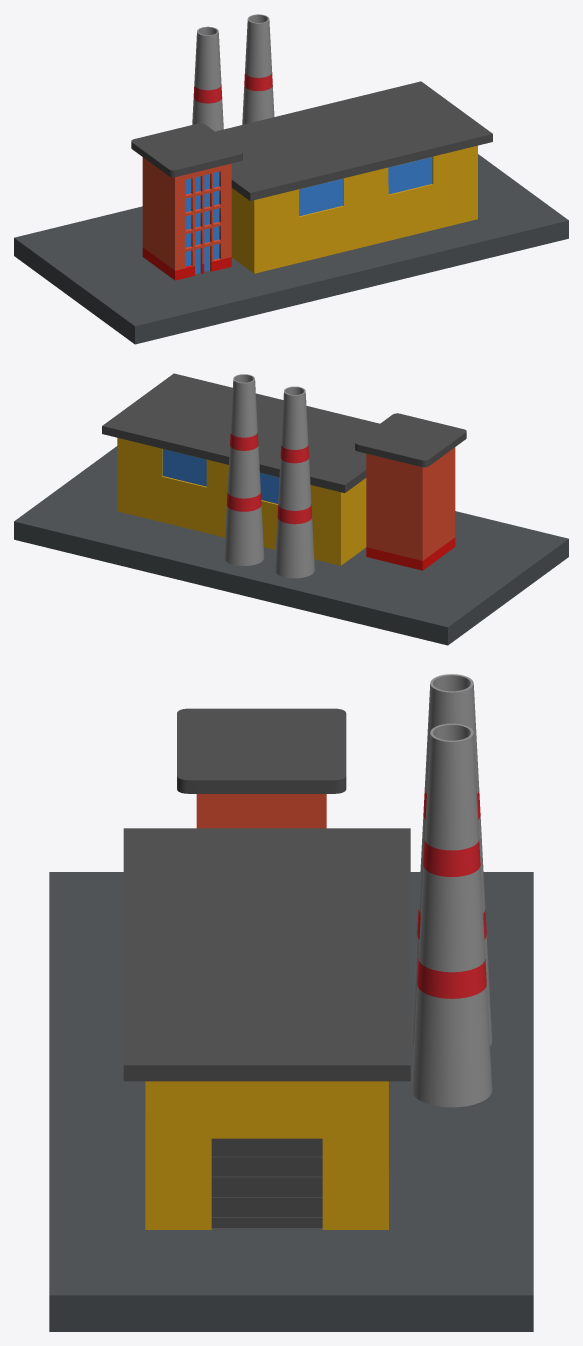
Rendered from Factory4 (2).fbx.
3 views of the same model, one above another, from view 1: azimuth 30°, elevation 25°; view 2: azimuth 150°, elevation 25°; view 3: azimuth 270°, elevation 25° (orthographic). The views are drawn at different scales.
Visible parts, largest first — view 1: Factory.004, Factory.005, Office.003, Pipe.002, Pipe.001; view 2: Factory.005, Factory.004, Office.003, Pipe.001, Pipe.002; view 3: Factory.005, Factory.004, Pipe.002, Office.003, Pipe.001.
Part boxes in pixels (x1,y1,x2,y2): Factory.004: (215,81,492,273); Factory.005: (14,154,568,344); Office.003: (131,123,242,280); Pipe.002: (242,14,274,124); Pipe.001: (192,26,223,131); Factory.005: (14,446,568,645); Factory.004: (102,373,379,565); Office.003: (355,413,466,570); Pipe.001: (274,386,314,578); Pipe.002: (224,374,264,565); Factory.005: (49,872,533,1331); Factory.004: (123,828,410,1229); Pipe.002: (411,723,492,1107); Office.003: (177,708,346,828); Pipe.001: (411,674,492,1045).
Bounding box in the file's own units: 3325 × 1443 × 1606.
